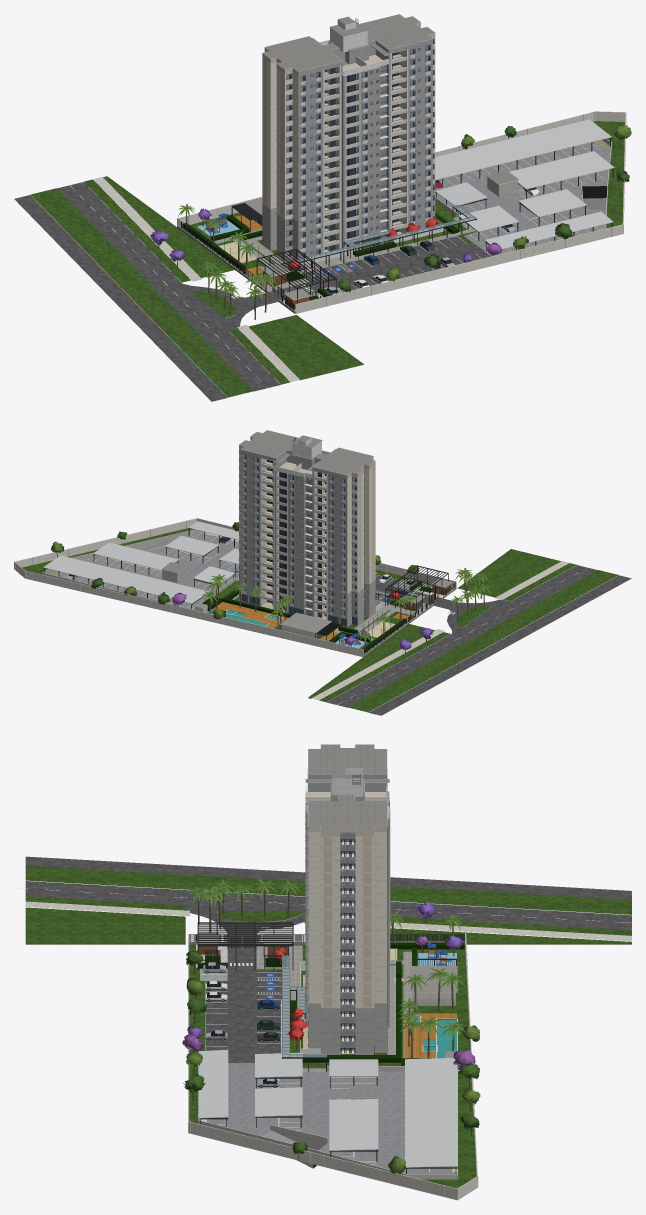
Rendered from casa-prado.glb.
3 views of the same model, one above another, from view 1: azimuth 30°, elevation 25°; view 2: azimuth 150°, elevation 25°; view 3: azimuth 270°, elevation 25° (orthographic). The views are drawn at different scales.
Visible parts, largest first — view 1: torre-1, entorno-rua, garagem, terreno, lazer, vegetacao, unidades, carros; view 2: torre-1, entorno-rua, garagem, terreno, lazer, vegetacao, unidades; view 3: entorno-rua, torre-1, garagem, terreno, lazer, vegetacao, carros.
Boxes of the visible parts, left/top/right/bottom form: torre-1: left=262, top=14, right=443, bottom=265; entorno-rua: left=14, top=176, right=363, bottom=401; garagem: left=435, top=119, right=614, bottom=256; terreno: left=177, top=111, right=626, bottom=313; lazer: left=182, top=198, right=477, bottom=309; vegetacao: left=150, top=124, right=631, bottom=319; unidades: left=324, top=51, right=399, bottom=249; carros: left=324, top=180, right=572, bottom=295; torre-1: left=239, top=430, right=382, bottom=627; entorno-rua: left=308, top=549, right=631, bottom=715; garagem: left=42, top=521, right=238, bottom=609; terreno: left=14, top=518, right=456, bottom=657; lazer: left=195, top=565, right=452, bottom=652; vegetacao: left=51, top=522, right=490, bottom=653; unidades: left=267, top=460, right=326, bottom=607; entorno-rua: left=14, top=856, right=631, bottom=944; torre-1: left=300, top=744, right=390, bottom=1054; garagem: left=198, top=1049, right=458, bottom=1179; terreno: left=188, top=927, right=478, bottom=1200; lazer: left=197, top=922, right=464, bottom=1071; vegetacao: left=182, top=878, right=480, bottom=1174; carros: left=203, top=962, right=280, bottom=1087.
Size of what is drawn, in the model's own units: 157 by 56.26 by 119.
Materials: 91 (50 with a texture image).
